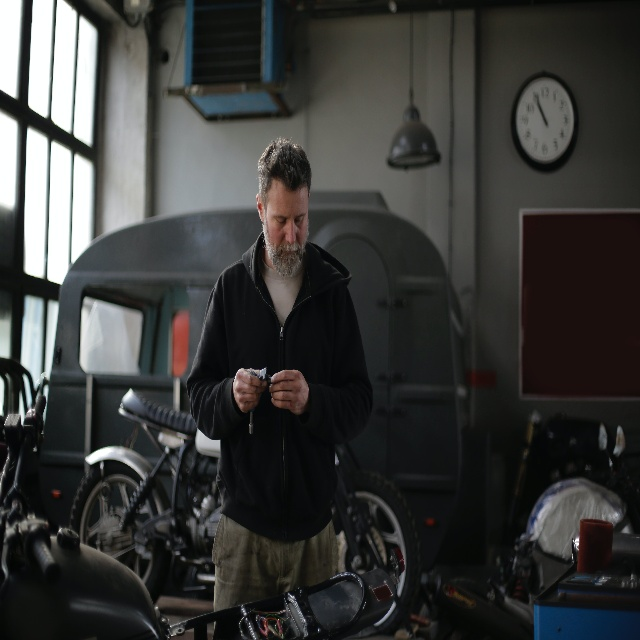Sin_guantes: (233, 363, 269, 415), (267, 370, 307, 410)
